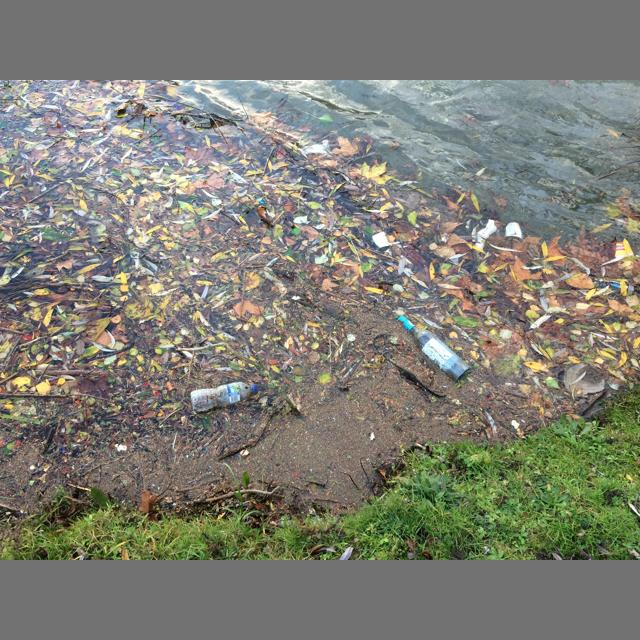litter: (398, 315, 471, 382), (190, 382, 257, 412), (599, 238, 634, 266), (505, 222, 523, 240), (594, 278, 621, 288)
